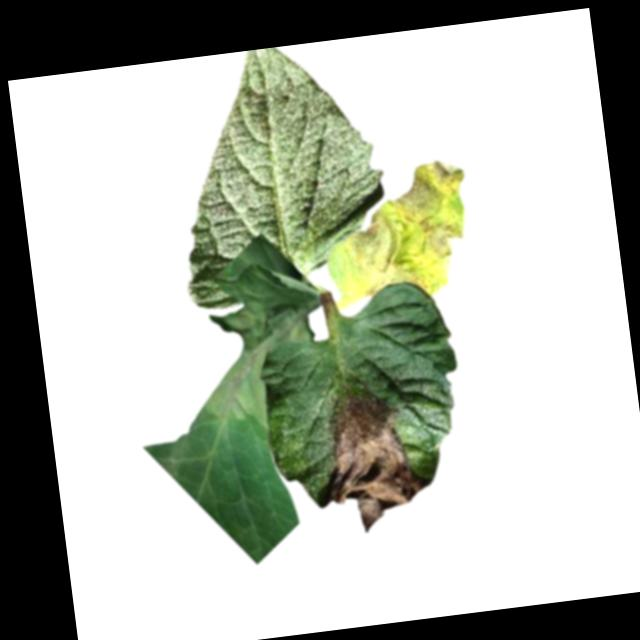Late_blight: (335, 157, 479, 305), (191, 293, 327, 441), (314, 387, 430, 537)
healthy: (159, 35, 397, 310)
